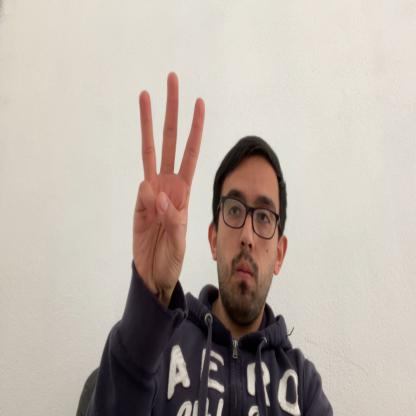W: (133, 70, 204, 297)
